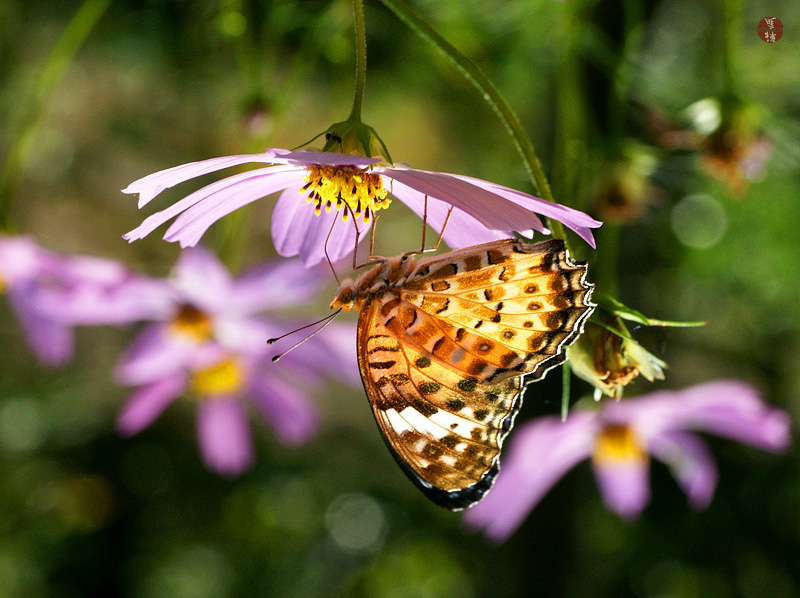Argyreus hyperbius: (261, 184, 604, 509)
butterfly: (259, 183, 602, 508)
